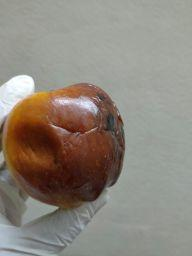Apple Rotten: (2, 72, 138, 209)
